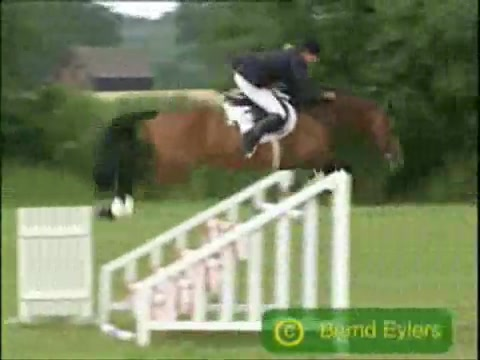horse: (96, 91, 407, 221)
